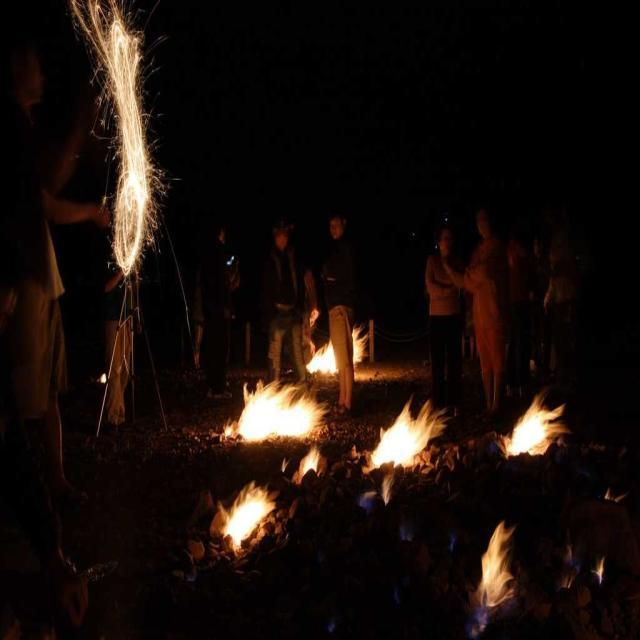Fire: (92, 24, 156, 271), (234, 374, 318, 442), (506, 387, 574, 467), (369, 404, 439, 480), (213, 489, 277, 551), (476, 526, 522, 608), (304, 332, 340, 376), (354, 322, 367, 364)
